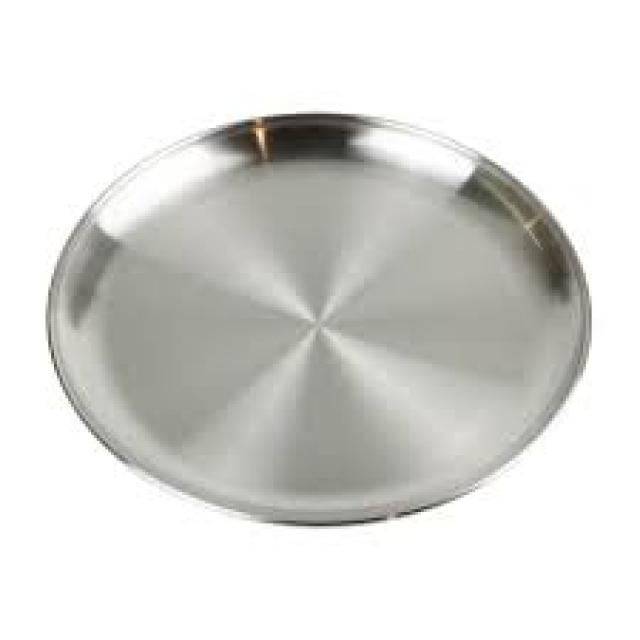Plate: (43, 98, 603, 538)
